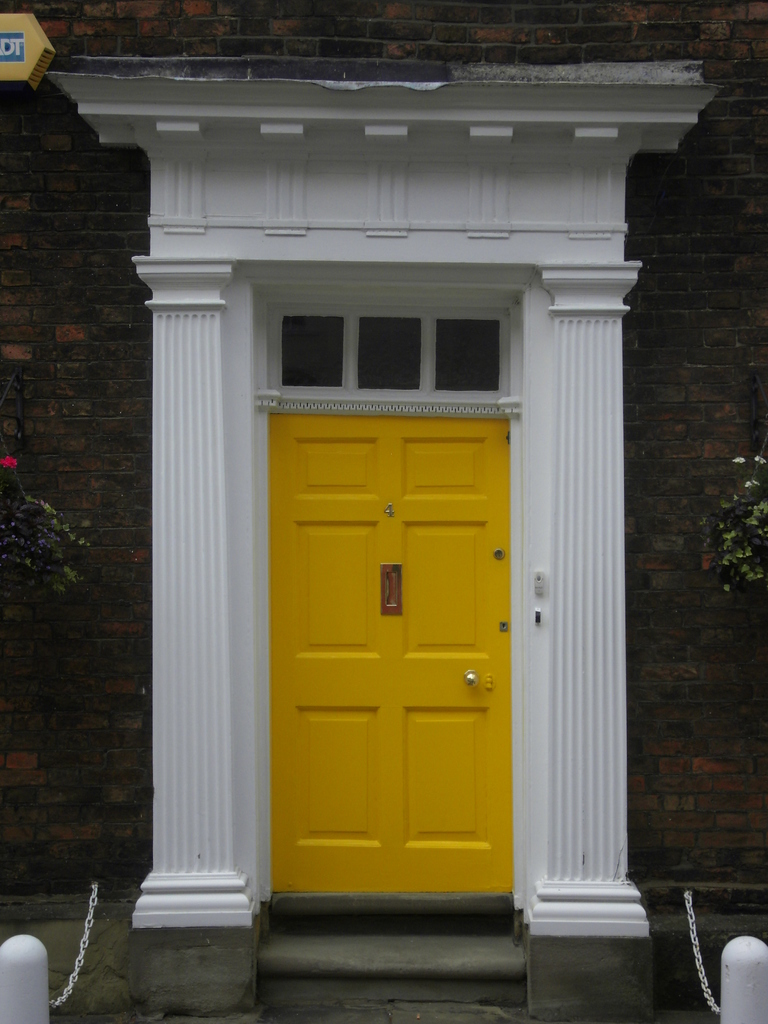door: (274, 415, 513, 893)
handle: (458, 656, 479, 705)
